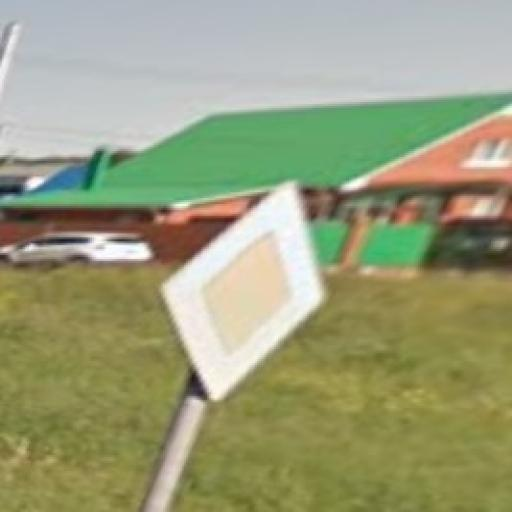traffic_sign: (160, 180, 331, 403)
